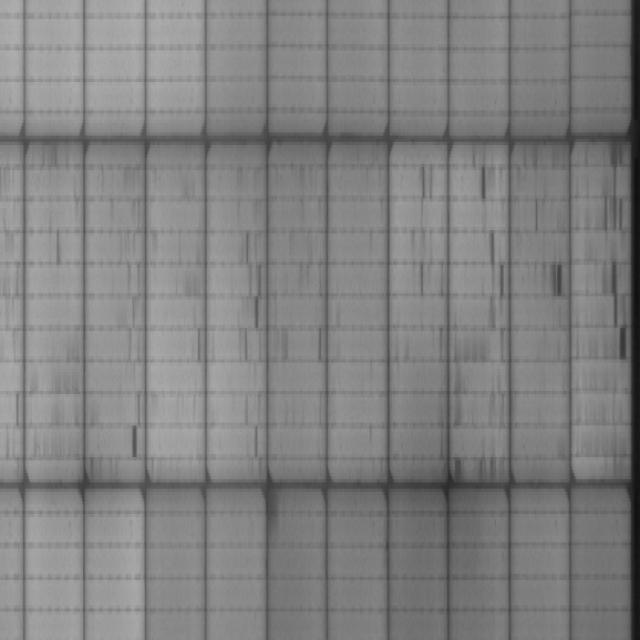CRACK: (406, 139, 514, 520), (589, 125, 632, 413), (114, 138, 146, 494)
